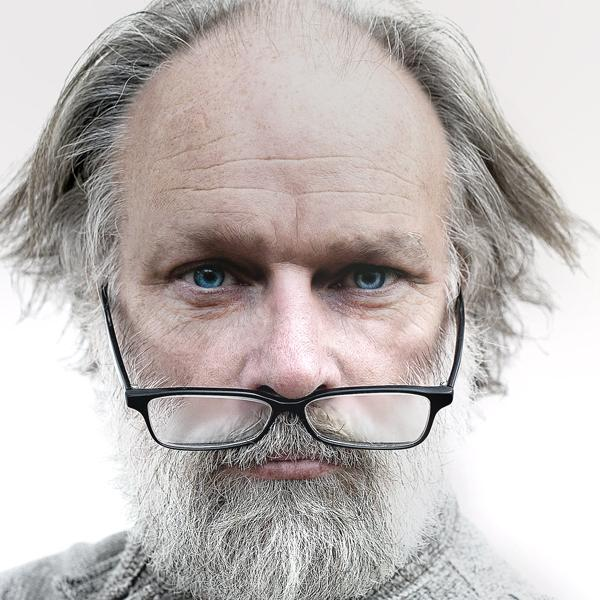Eyes: (159, 246, 263, 309), (317, 249, 421, 305)
